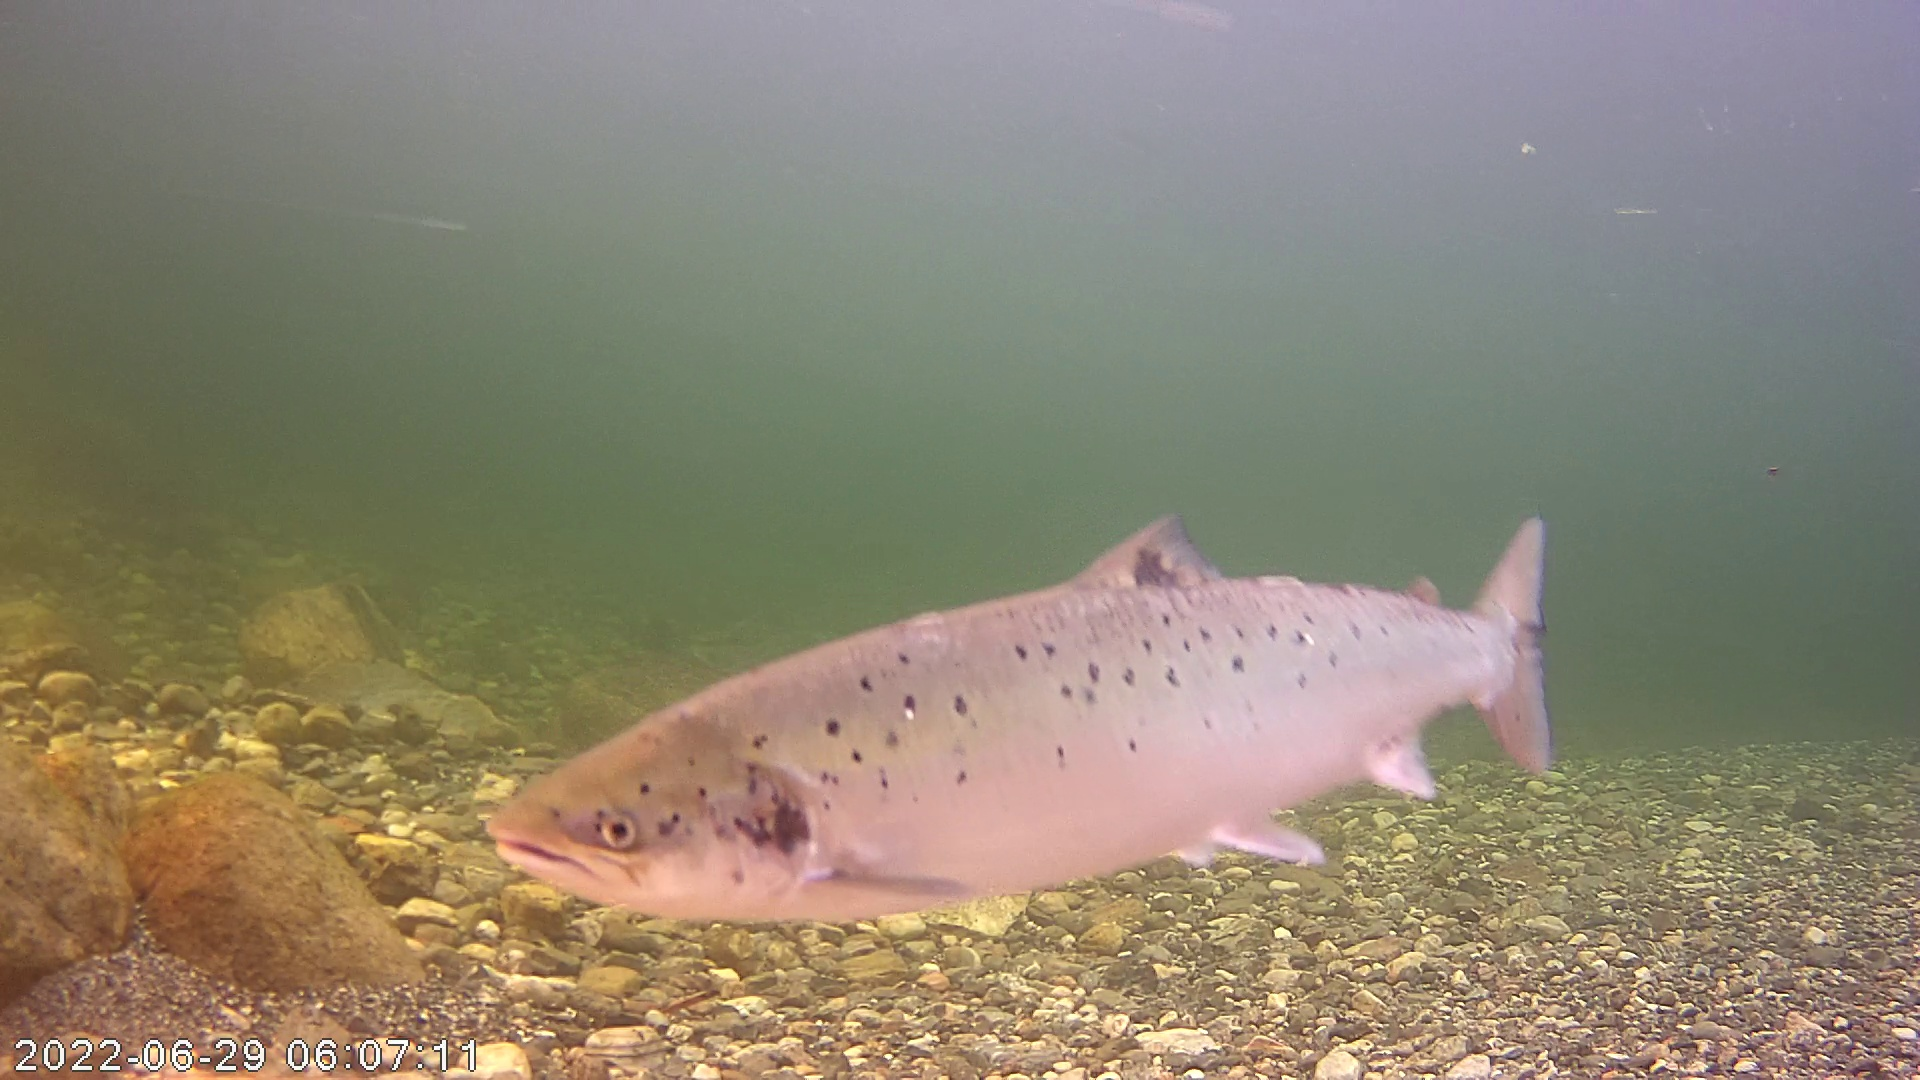salmon: (458, 439, 1552, 957)
